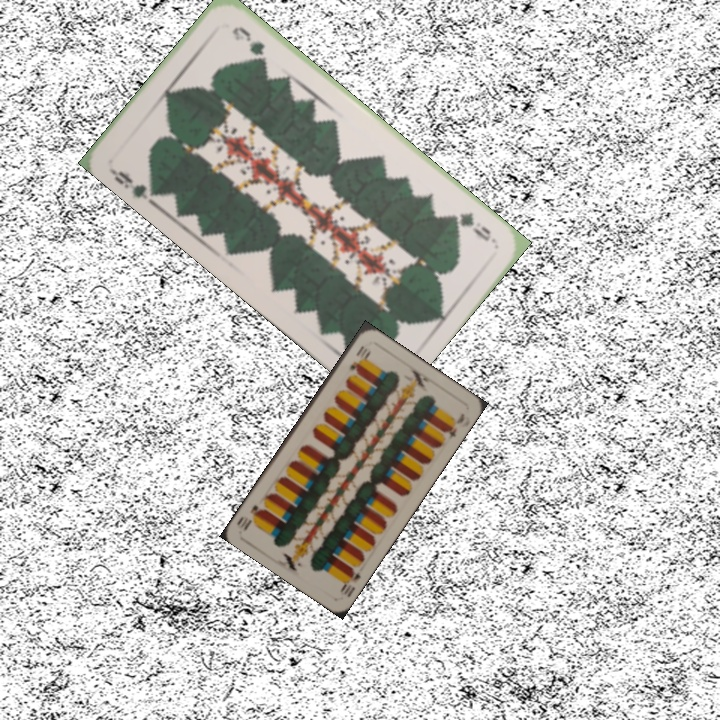E10: (336, 564, 363, 600), (345, 341, 372, 373)
G9: (105, 164, 161, 206), (445, 208, 499, 246)
